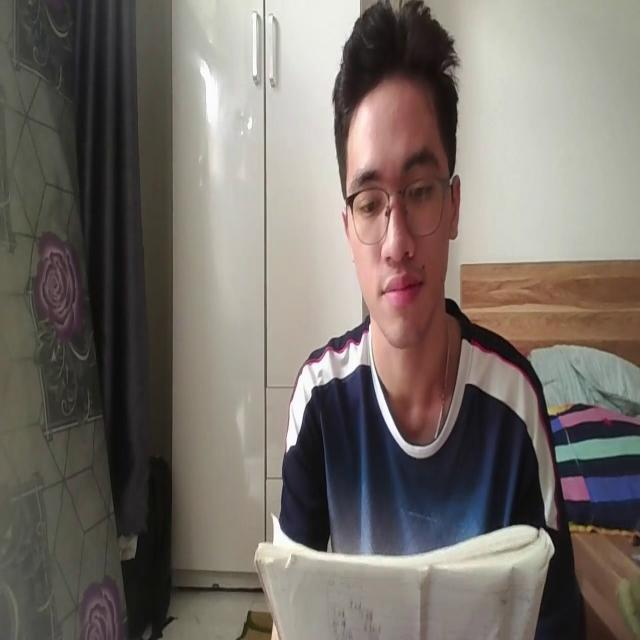book: (248, 501, 560, 640)
student: (265, 0, 585, 640)
